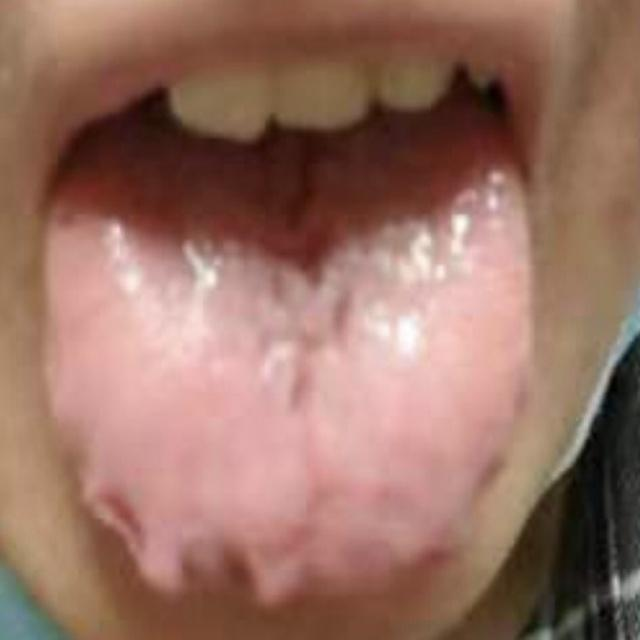baitaishe: (35, 92, 545, 623)
chihenshe: (40, 423, 229, 608)
liewenshe: (267, 279, 363, 417), (288, 146, 322, 247)
